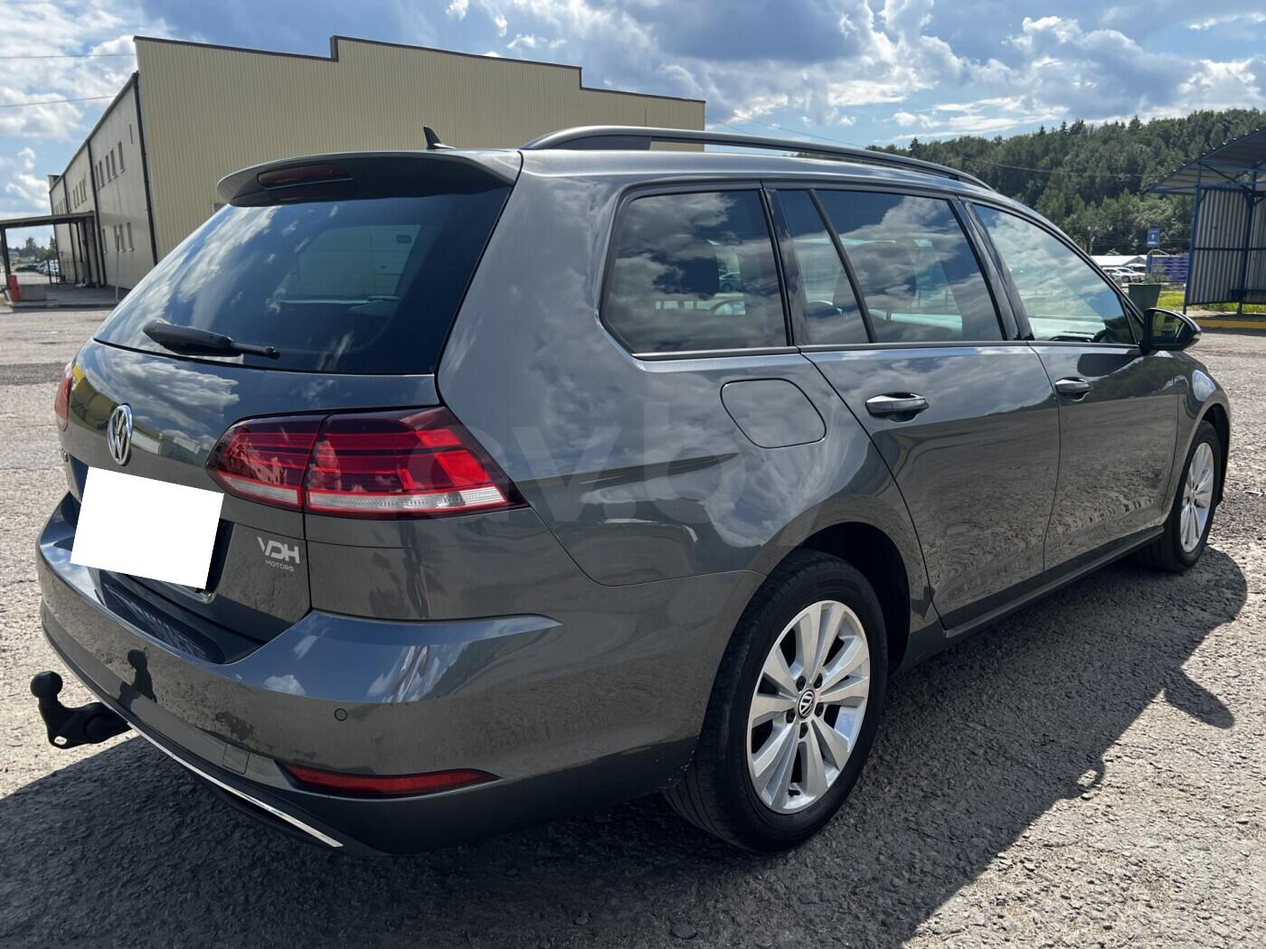Golf_2017-2021: (25, 134, 1241, 833)
